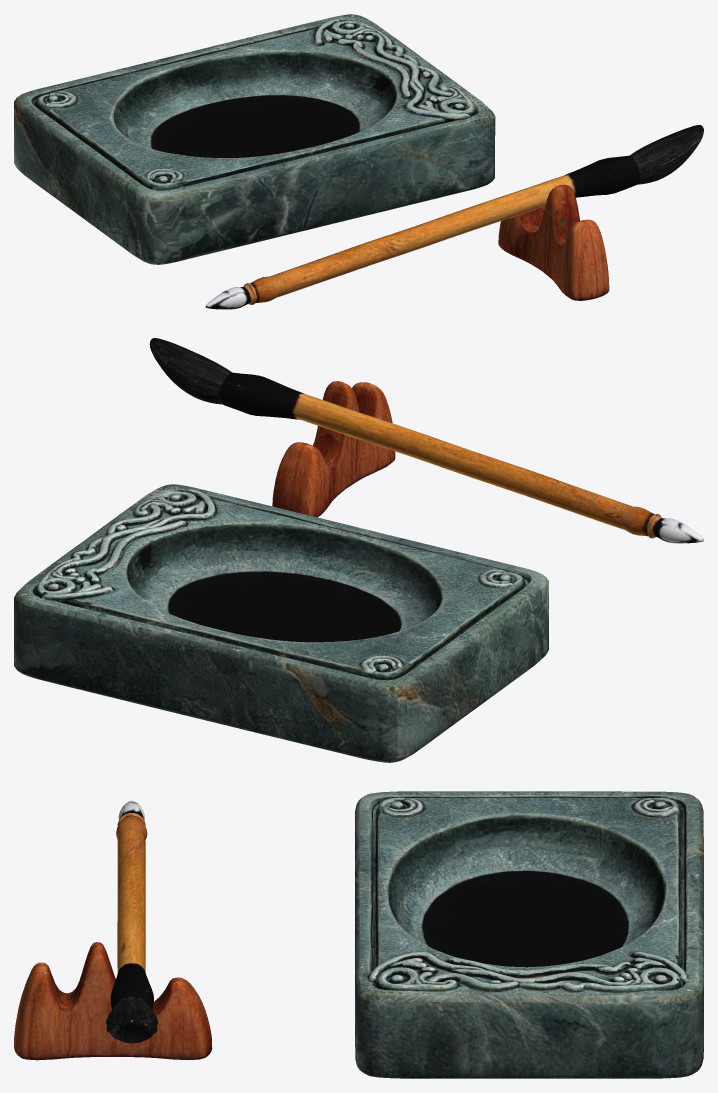
The model's file is inkstone.glb.
3 renders of one model, top to bottom at view 1: azimuth 30°, elevation 25°; view 2: azimuth 150°, elevation 25°; view 3: azimuth 270°, elevation 25°, orthographic. The views are drawn at different scales.
Visible parts, largest first — view 1: inkstone; view 2: inkstone; view 3: inkstone.
Boxes of the visible parts, left/top/right/bottom form: inkstone: left=14, top=14, right=703, bottom=309; inkstone: left=14, top=338, right=703, bottom=762; inkstone: left=14, top=791, right=703, bottom=1078.
Bounding box in the file's own units: 0.9997 × 0.1954 × 1.
Materials: 1 (1 with a texture image).
